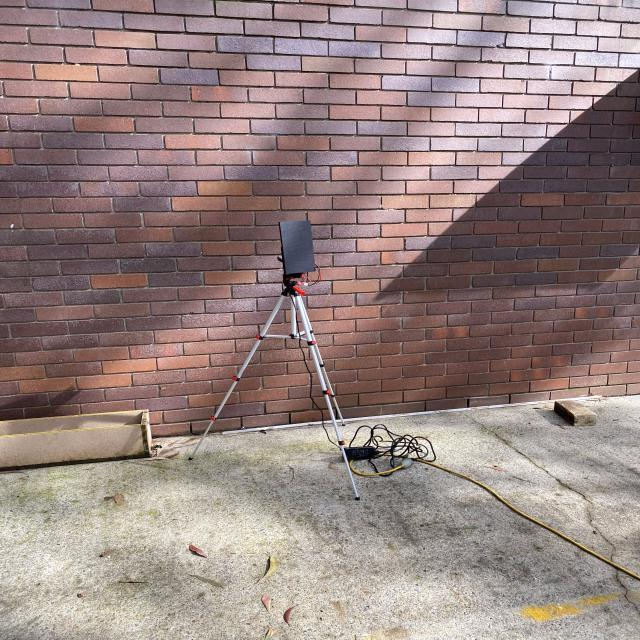matrix: (268, 216, 326, 281)
